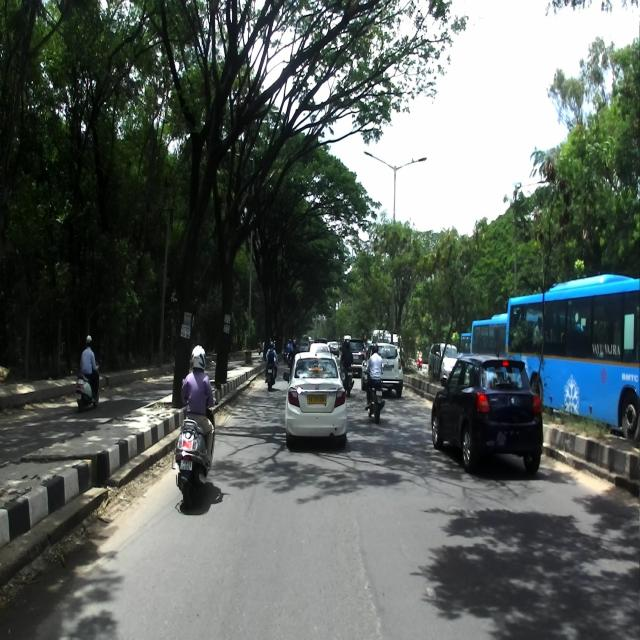bus: (504, 272, 640, 444)
car: (430, 345, 543, 472), (282, 348, 346, 448)
scooter: (171, 377, 218, 508)
